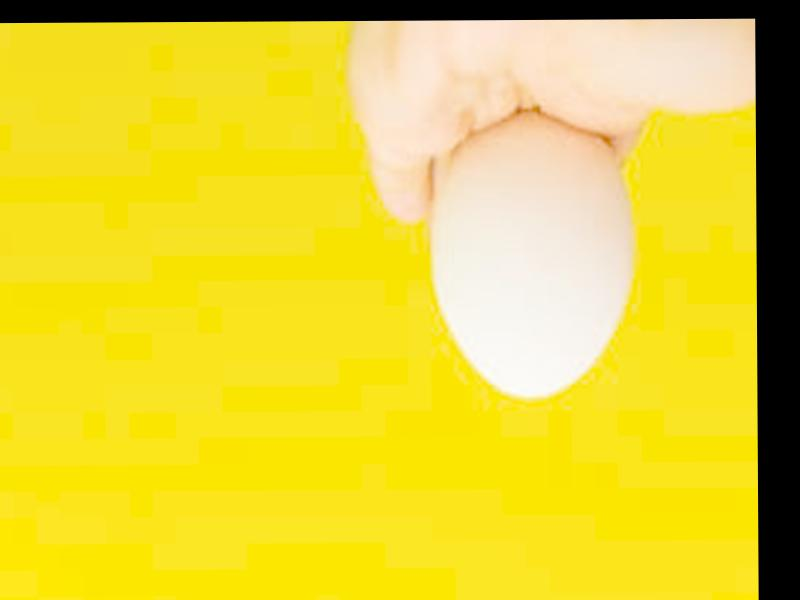Eggs: (432, 113, 626, 400)
